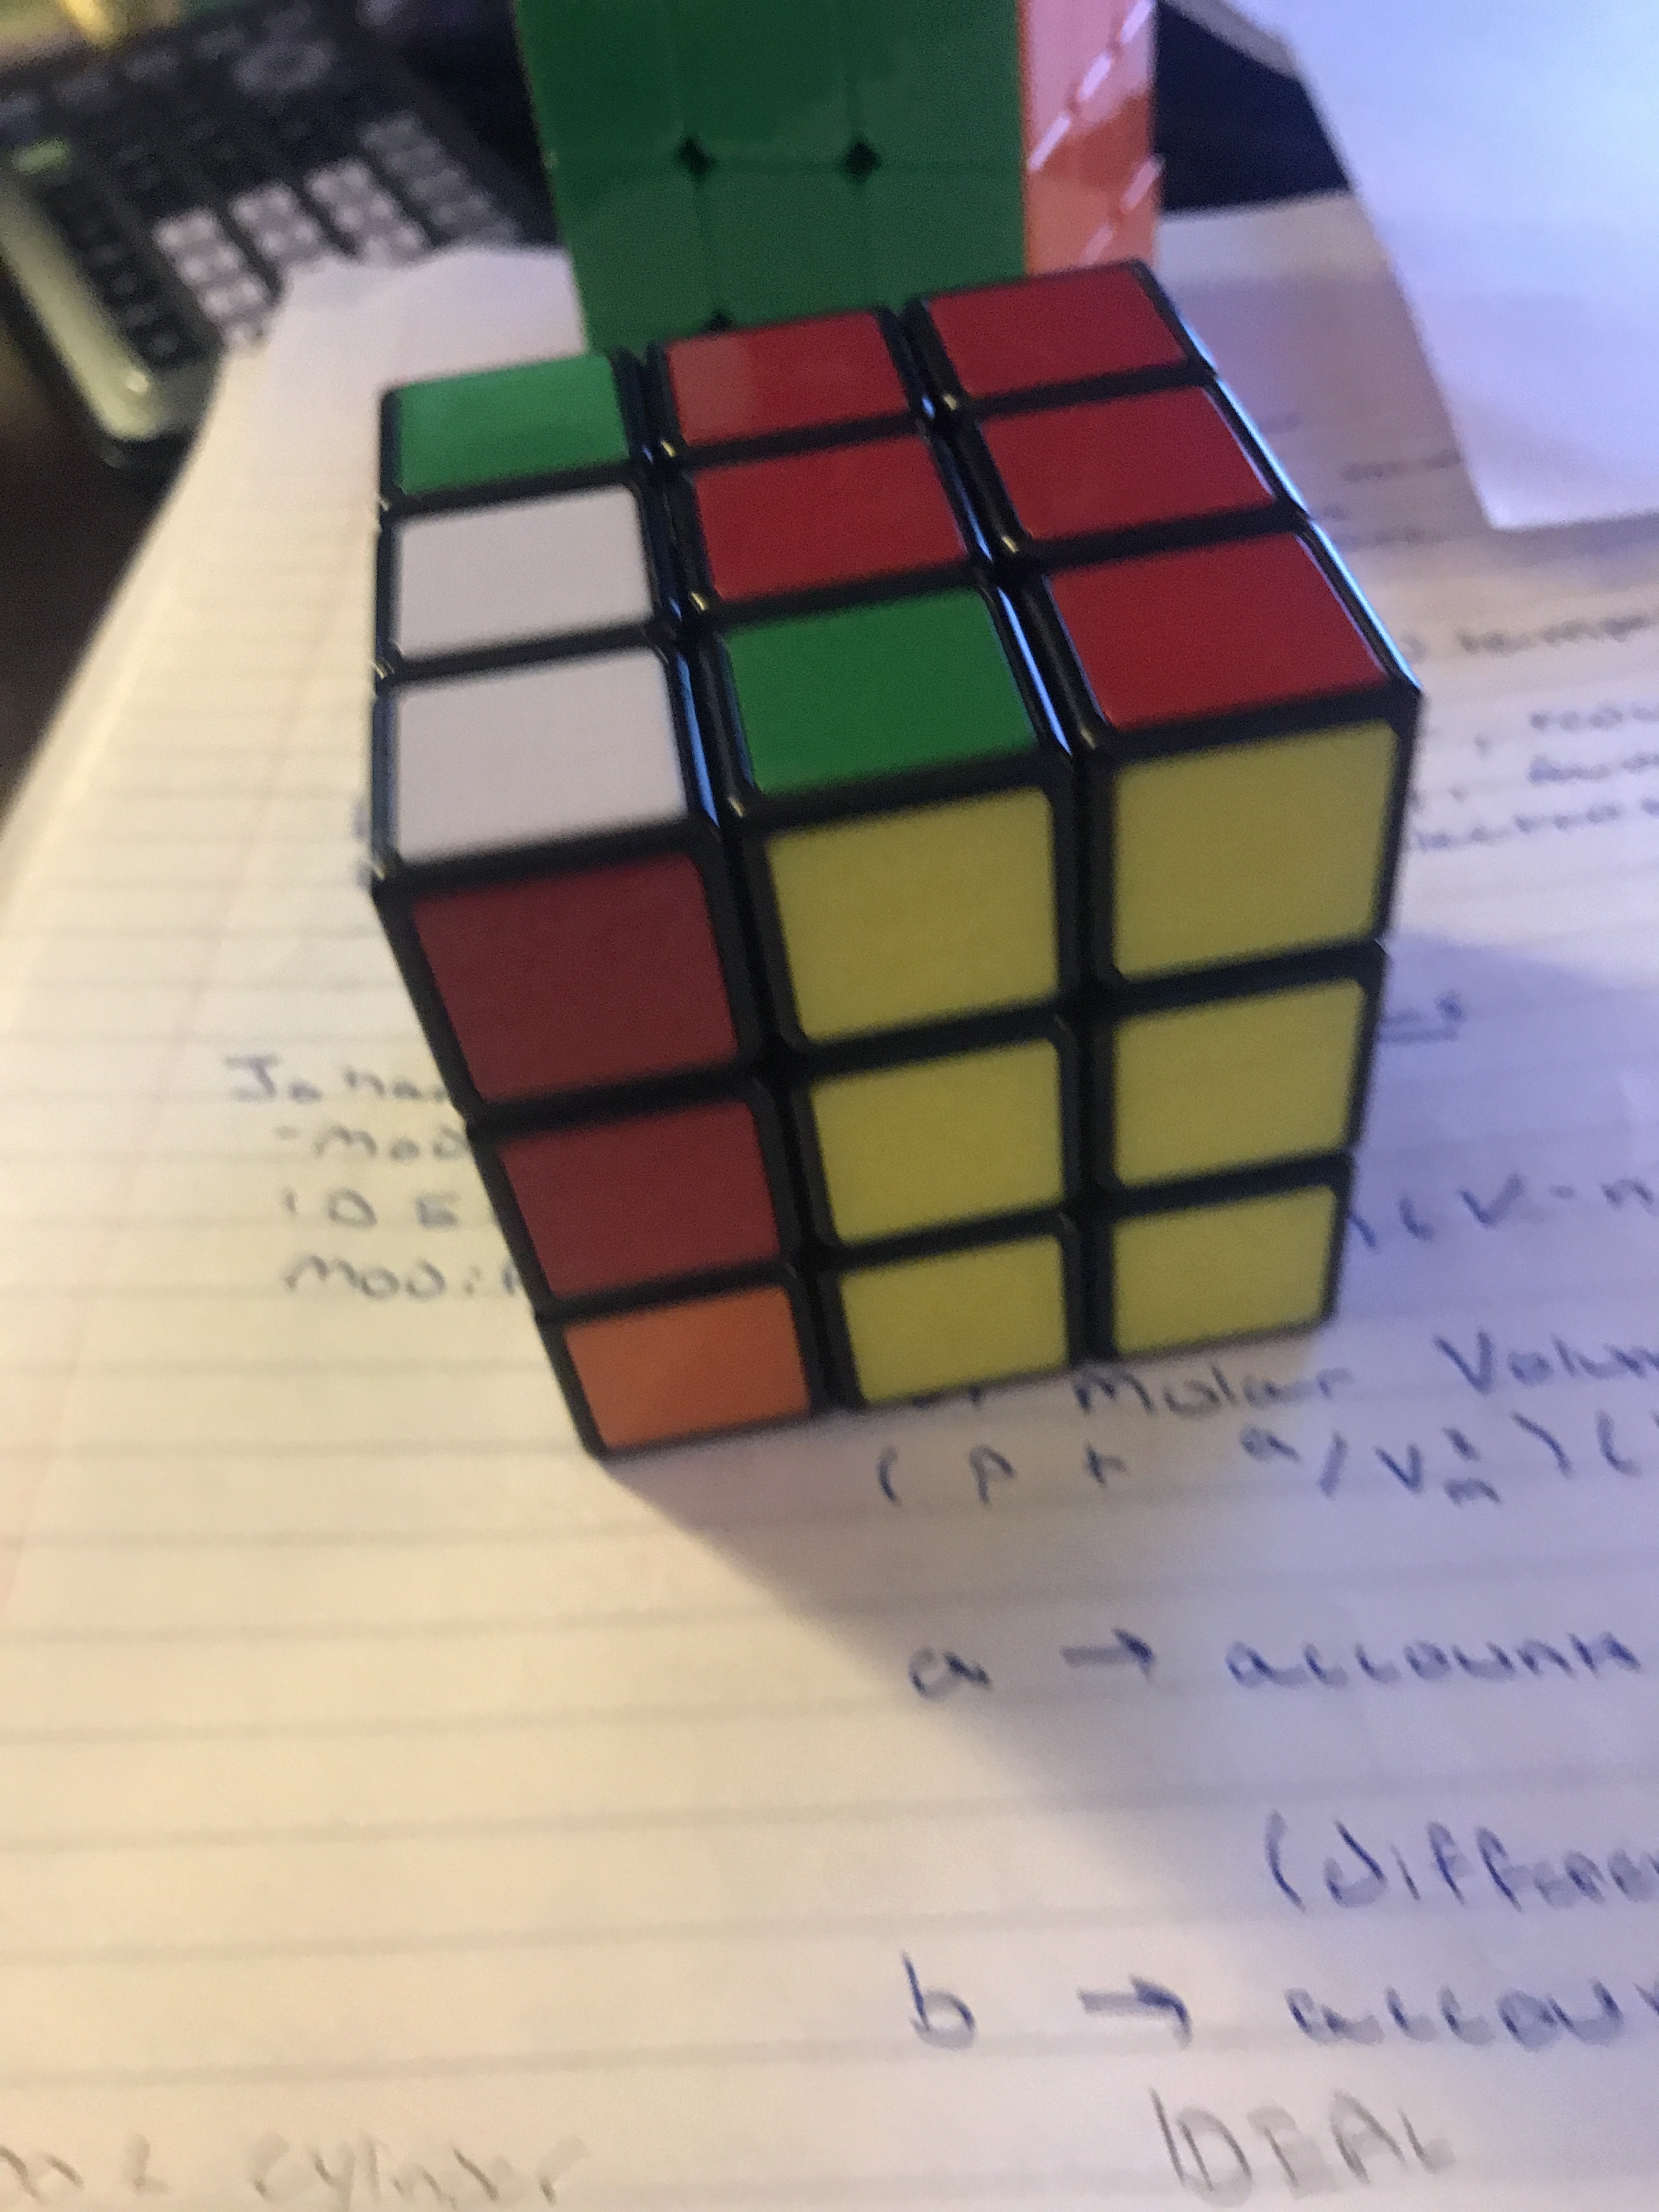rubiks: (317, 266, 1417, 1463), (493, 7, 1175, 272)
